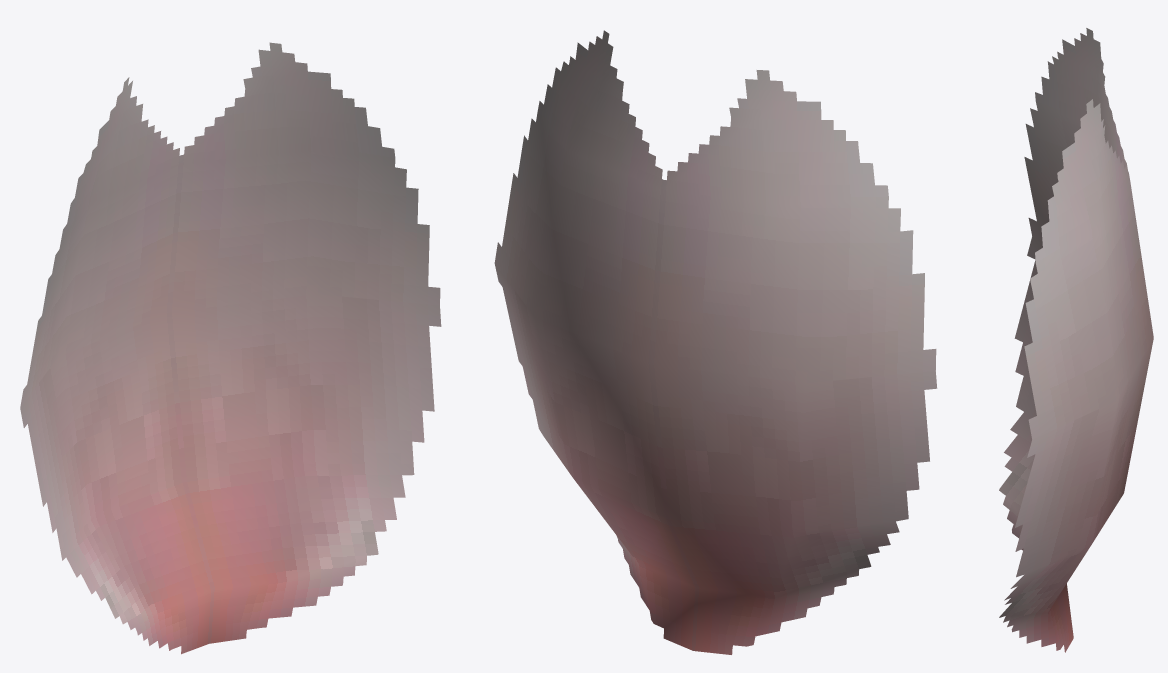
File: petal.glb
3 views of the same model, side by side, from view 1: azimuth 30°, elevation 25°; view 2: azimuth 150°, elevation 25°; view 3: azimuth 270°, elevation 25° (orthographic). The views are drawn at different scales.
Bounding box in the file's own units: 1.75 × 2.28 × 0.5766.
Materials: 1 (1 with a texture image).
